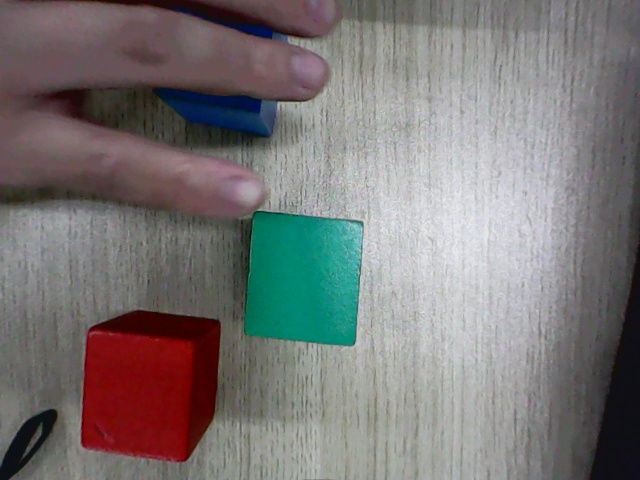upside of big cube: (243, 212, 364, 345), (81, 330, 193, 461)
